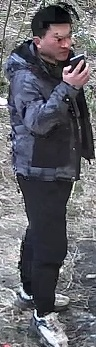phone: (9, 13, 85, 121)
